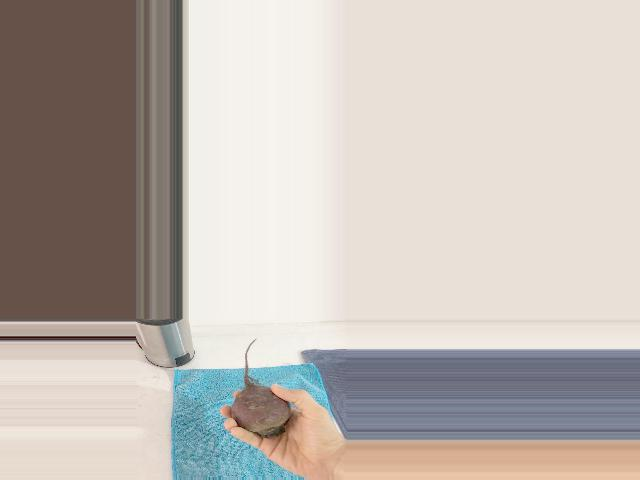beet: (230, 339, 290, 439)
